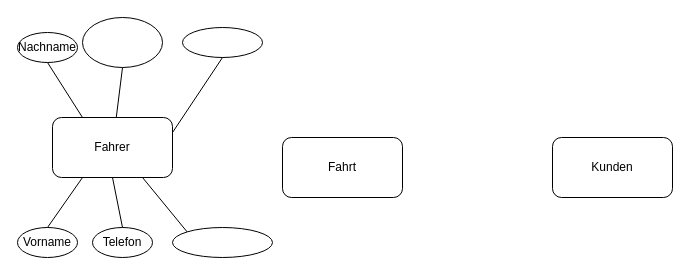
Some shapes in this 690 by 275 pixel diagram are drawn without their labels. The shapes that lost their labels are listed below. From the top down, each one's centre as x and y in pixels, then its label:
the point at 122,42: Strasse + Hausnumme
the point at 222,42: Postleitzahl
the point at 222,242: Personalnummer
